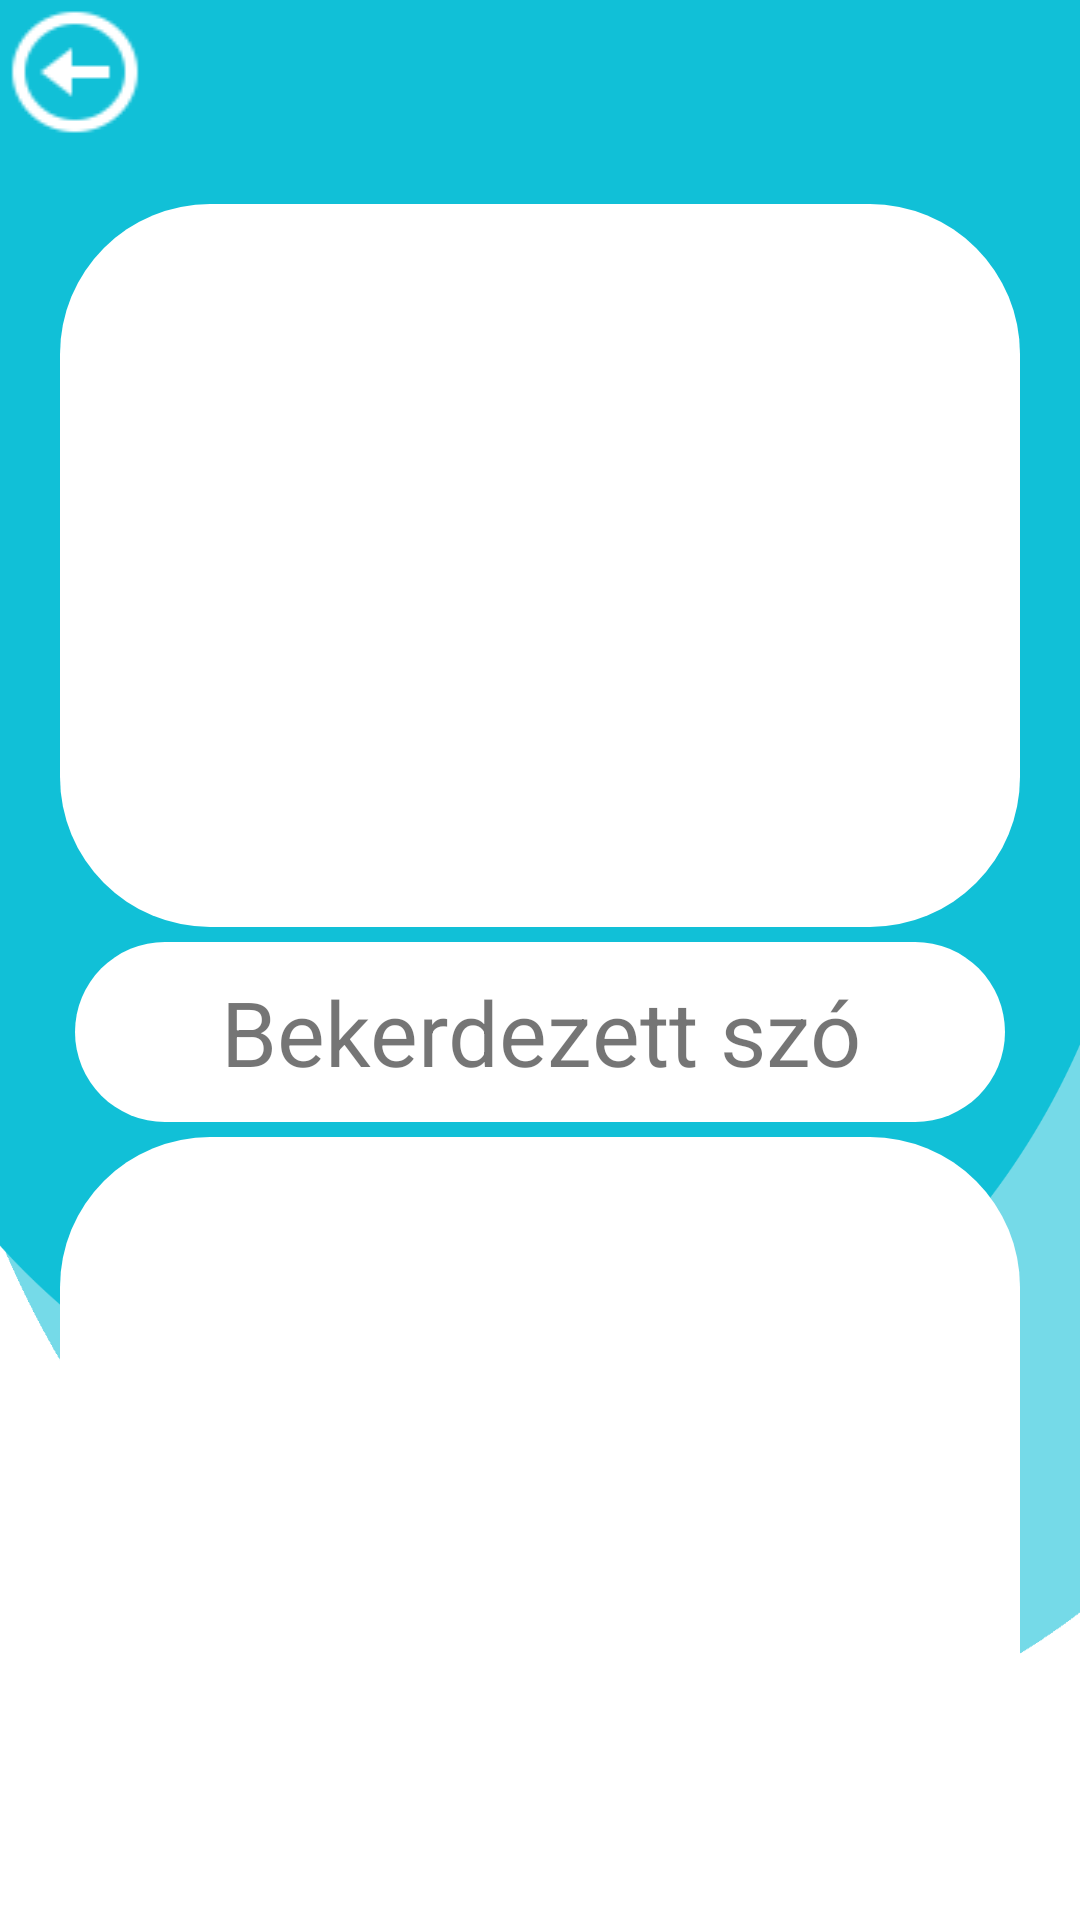

Named icons in this screenshot (1080*1920) and their centers, point (x, y):
back: point (75, 72)
